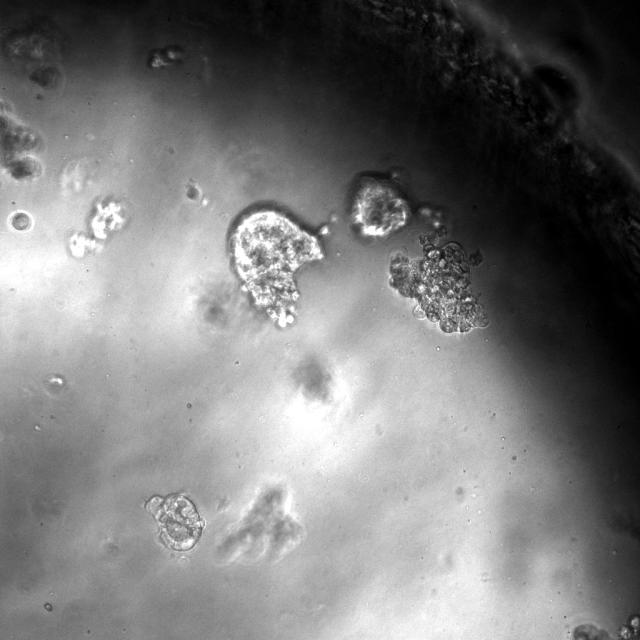organoid: (228, 201, 330, 327), (387, 226, 490, 335), (216, 484, 304, 563), (0, 16, 62, 90), (349, 167, 411, 238), (68, 197, 126, 259), (145, 493, 204, 551), (0, 103, 43, 180), (148, 45, 184, 68), (572, 624, 613, 639), (8, 210, 33, 232), (617, 614, 639, 639), (186, 180, 201, 201)
